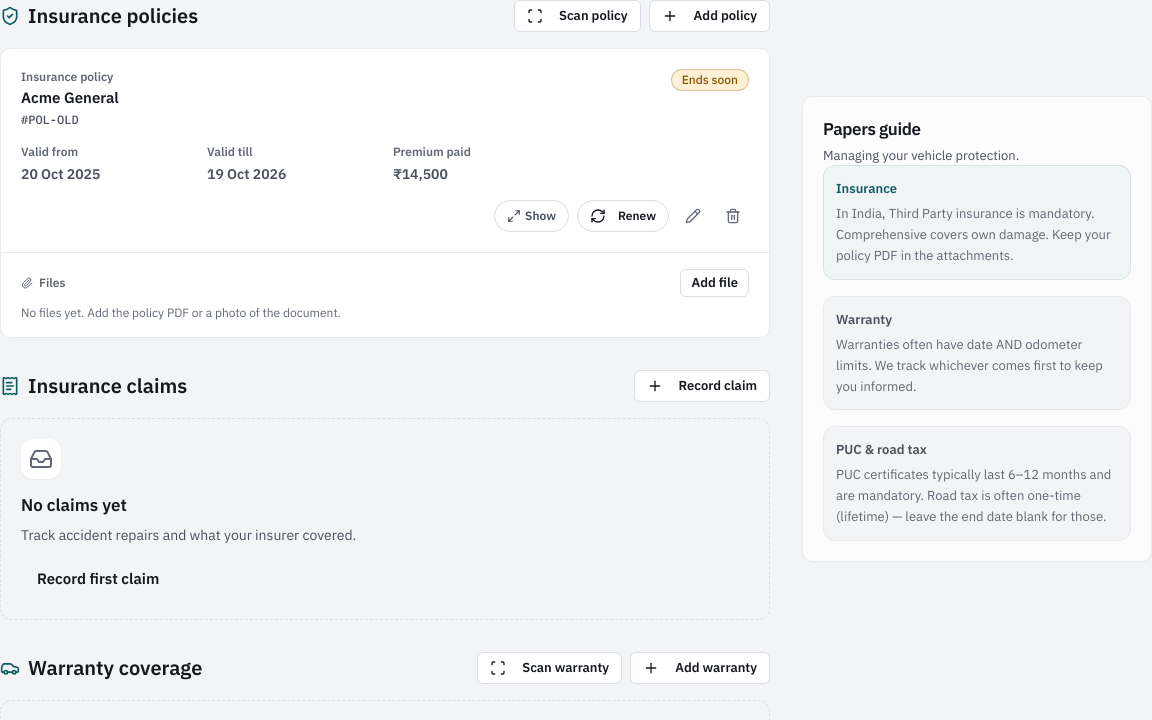
Test case: ProtectionTab renewal › opens the form prefilled from the expiring policy, with the next term
Click the button "Renew".
click(623, 216)  # box [577, 200, 669, 232]
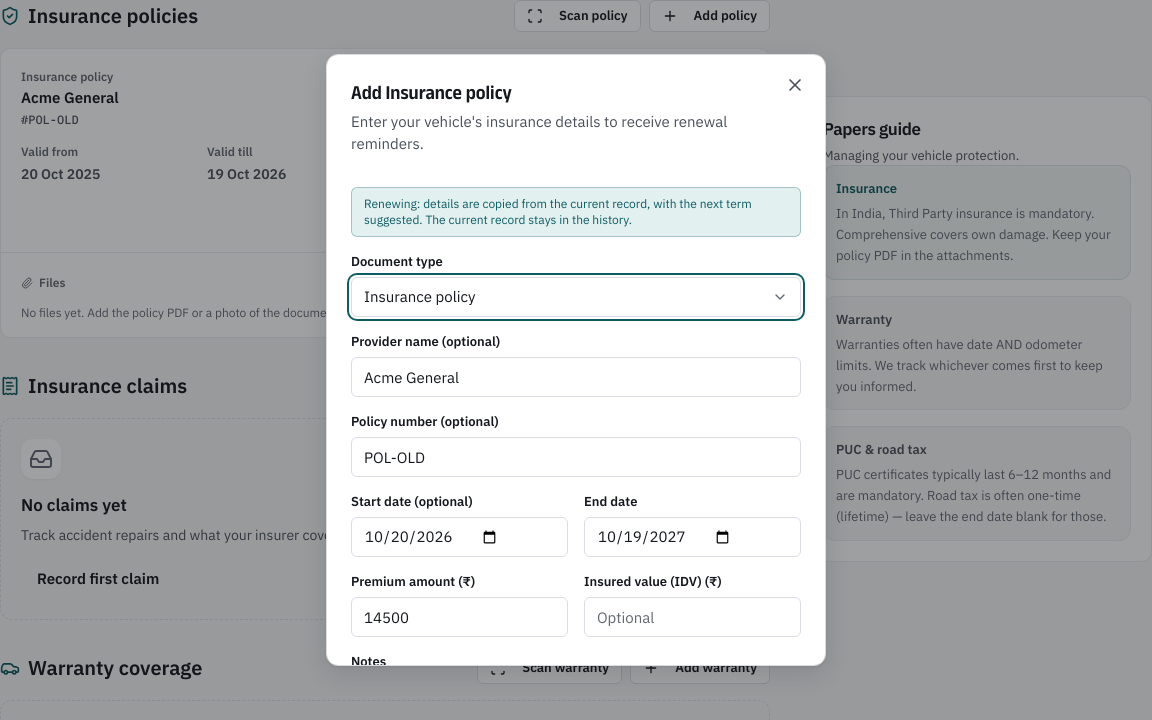
Expected: the text "Renewing: details are copied" is shown, [364, 196, 752, 227]
Expected: the field labelled "Provider name (optional)" holds "Acme General", [351, 357, 801, 397]
Expected: the field labelled "Policy number (optional)" holds "POL-OLD", [351, 437, 801, 477]
